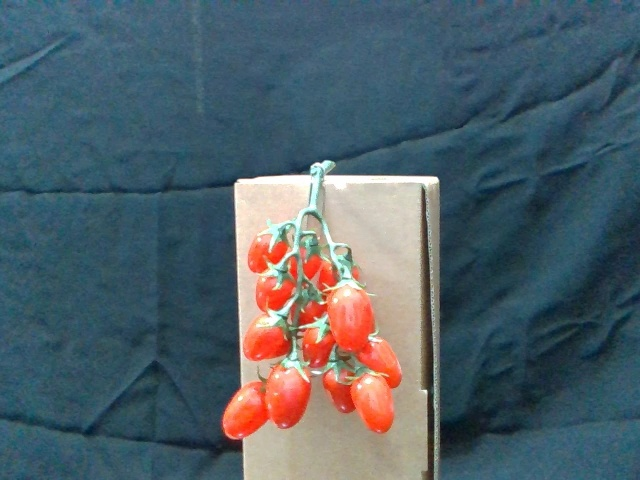tomato: (267, 360, 312, 430), (329, 280, 373, 348), (221, 378, 269, 440), (353, 369, 393, 433), (243, 310, 291, 358), (362, 333, 403, 386), (249, 222, 289, 273), (300, 317, 338, 368), (325, 362, 359, 417), (257, 265, 294, 312)
